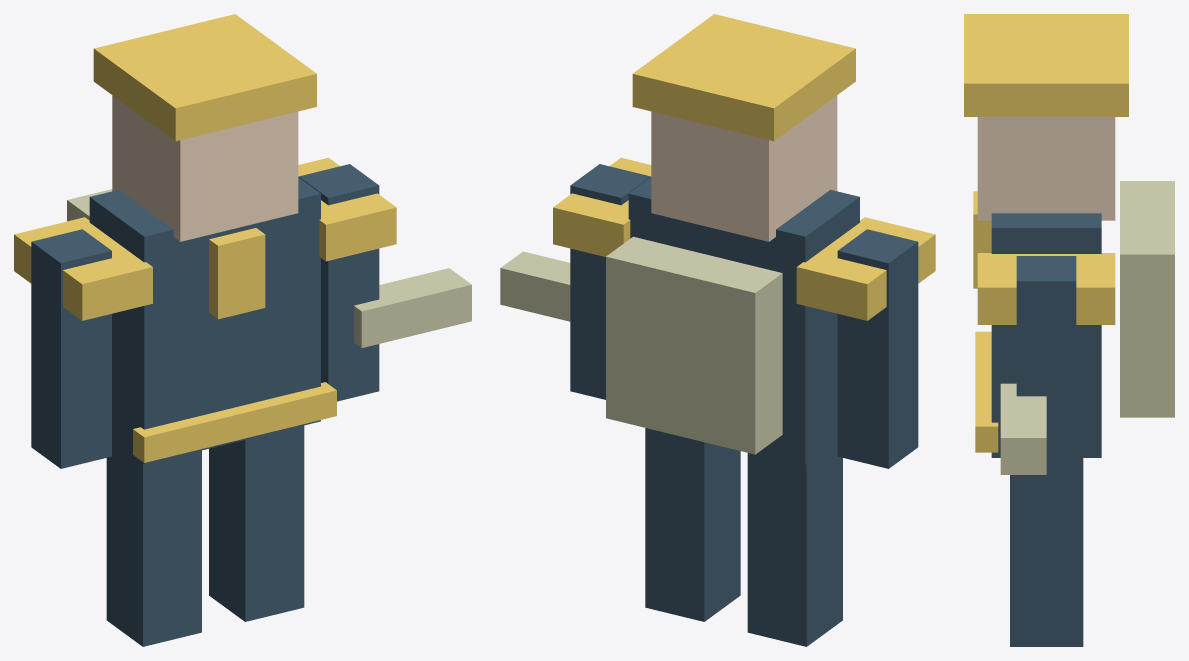
The model's file is 12_korra_gantryn_broker_near_observation.glb.
The picture shows the model from 3 angles, left to right: view 1: azimuth 30°, elevation 25°; view 2: azimuth 150°, elevation 25°; view 3: azimuth 270°, elevation 25°; orthographic projection.
Parts seen in each view (by area): view 1: Korra Gantryn, Broker near Observation; view 2: Korra Gantryn, Broker near Observation; view 3: Korra Gantryn, Broker near Observation.
Boxes of the visible parts, x1,y1,x2,y2 form: Korra Gantryn, Broker near Observation: [14, 14, 471, 646]; Korra Gantryn, Broker near Observation: [500, 14, 935, 646]; Korra Gantryn, Broker near Observation: [964, 14, 1174, 646].
Size of the model in its own units: 1.11 by 1.46 by 0.4983.
